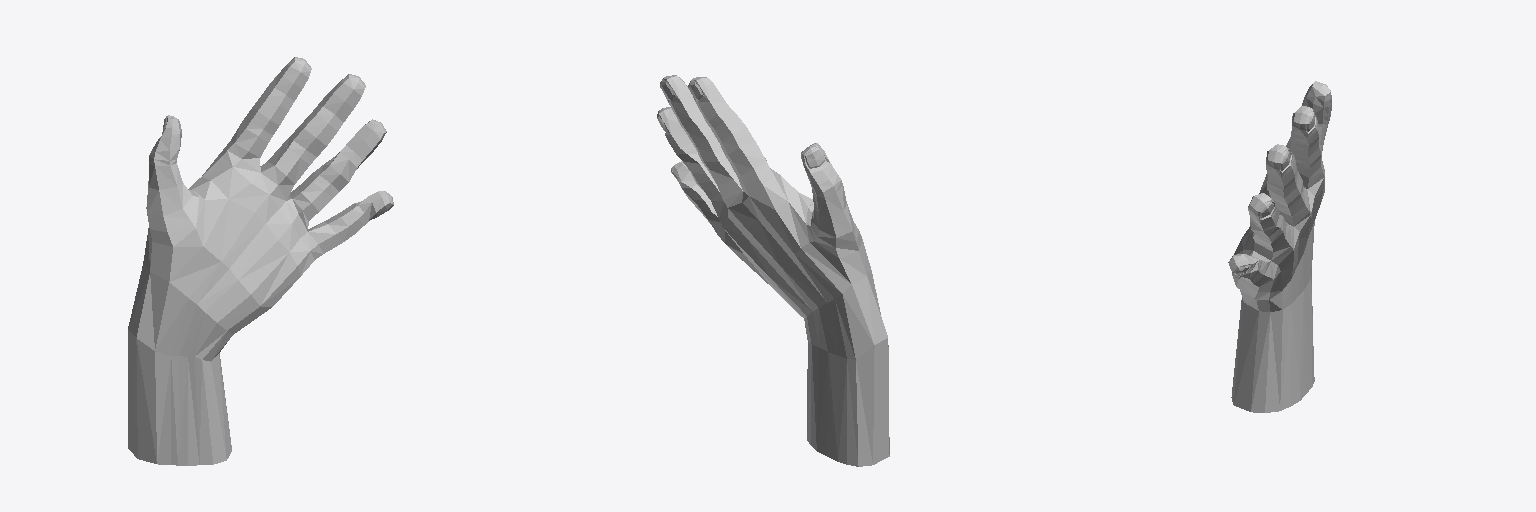
Rendered from handAnimated4_000135.obj.
The picture shows the model from 3 angles: view 1: azimuth 30°, elevation 25°; view 2: azimuth 150°, elevation 25°; view 3: azimuth 270°, elevation 25°; orthographic projection.
Parts seen in each view (by area): view 1: Cube.000_Cube.017_Detached_Detached; view 2: Cube.000_Cube.017_Detached_Detached; view 3: Cube.000_Cube.017_Detached_Detached.
Boxes of the visible parts, x1,y1,x2,y2 form: Cube.000_Cube.017_Detached_Detached: [128, 57, 393, 465]; Cube.000_Cube.017_Detached_Detached: [657, 75, 889, 466]; Cube.000_Cube.017_Detached_Detached: [1228, 81, 1331, 412].
Size of the model in its own units: 0.8294 by 1.16 by 0.3096.